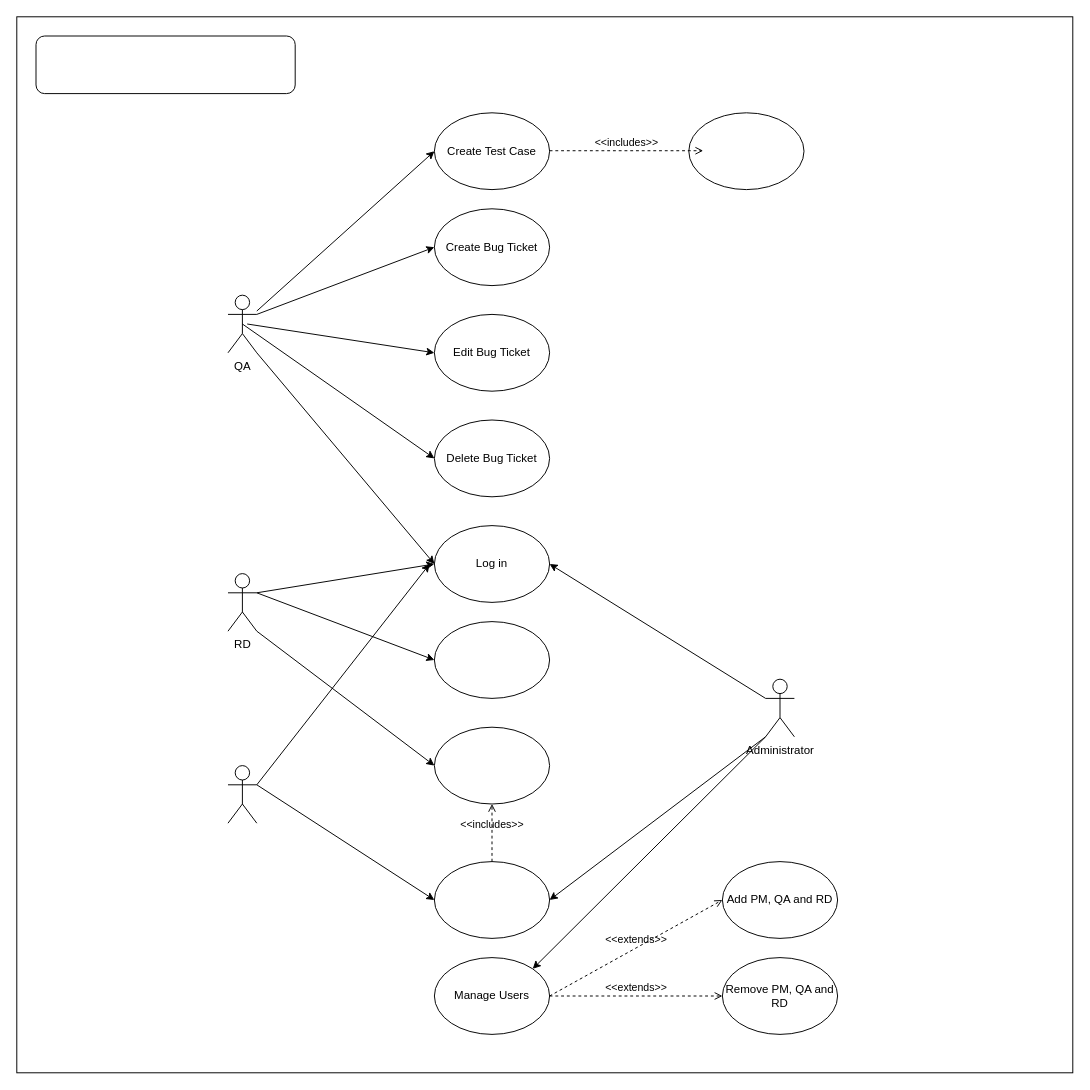
The diagram is 1090 pixels wide and 1090 high, and some of its shapes have lost their labels. The shapes that lost their labels are listed below. From the top down, each one's centre as x and y in pixels, then its label:
At point (165, 64): "Ticket Tracking System - Use Case Diagram Phase II".
At point (746, 151): "Resolve Test Cases".
At point (491, 659): "Resolve Bug Ticket".
At point (491, 765): "Resolve Feature Request".
At point (242, 794): "PM".
At point (491, 899): "Create new Feature Request".
